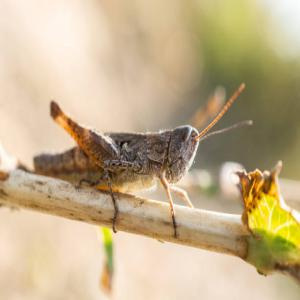locust: (25, 75, 241, 225)
